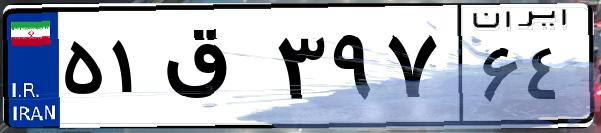1: (110, 28, 158, 98)
3: (270, 28, 330, 110)
4: (525, 38, 570, 115)
5: (57, 26, 110, 100)
6: (475, 38, 525, 113)
7: (385, 28, 445, 110)
9: (330, 28, 385, 110)
ق: (158, 20, 270, 120)
